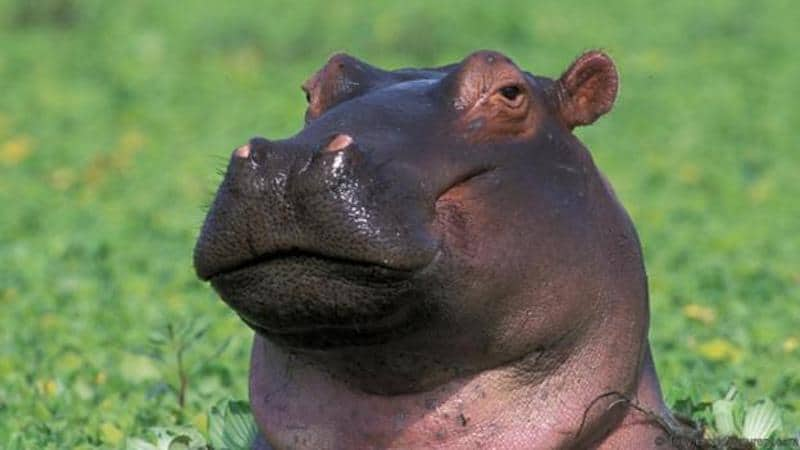Hippopotamus: (194, 49, 707, 450)
